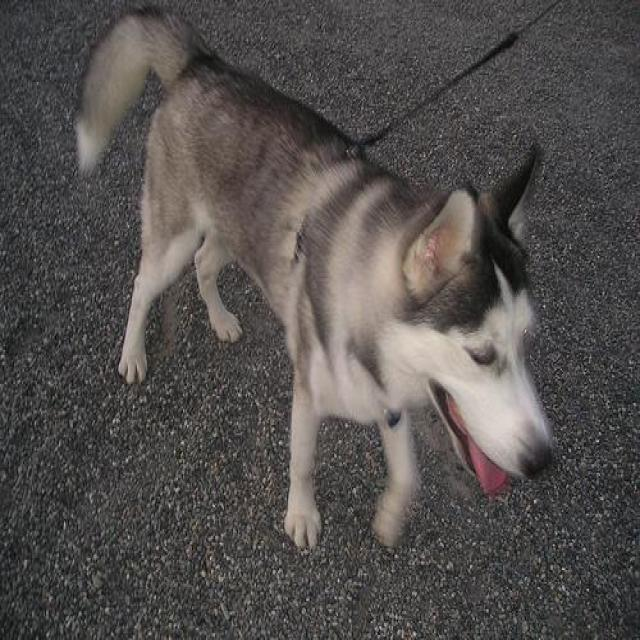happy: (72, 6, 582, 564)
